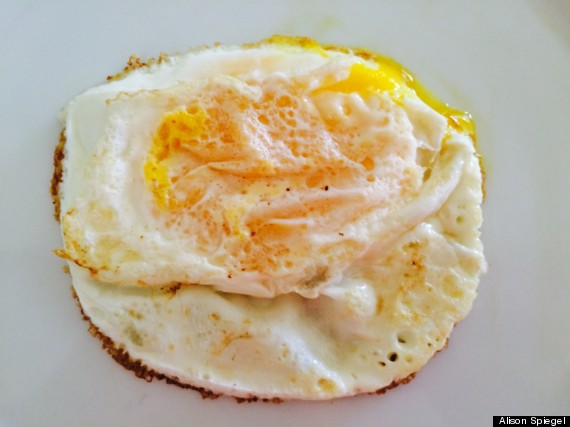fried_eggs: (52, 31, 487, 403)
